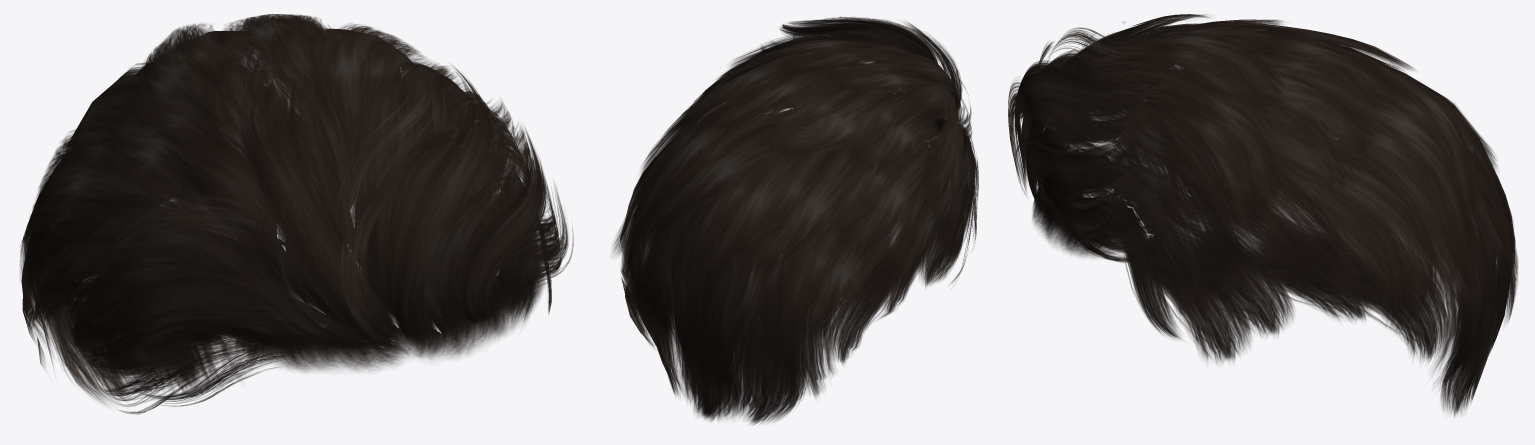
The model's file is Round_Wavy_Quiff.glb.
3 renders of one model, left to right at view 1: azimuth 30°, elevation 25°; view 2: azimuth 150°, elevation 25°; view 3: azimuth 270°, elevation 25°, orthographic. The views are drawn at different scales.
Parts seen in each view (by area): view 1: s4studio_mesh_3.002; view 2: s4studio_mesh_3.002; view 3: s4studio_mesh_3.002.
Boxes of the visible parts, <box> form: s4studio_mesh_3.002: <box>20,14,573,414</box>; s4studio_mesh_3.002: <box>612,16,978,424</box>; s4studio_mesh_3.002: <box>1008,14,1518,417</box>.
Bounding box in the file's own units: 0.1916 × 0.1983 × 0.2446.
Materials: 1 (1 with a texture image).
